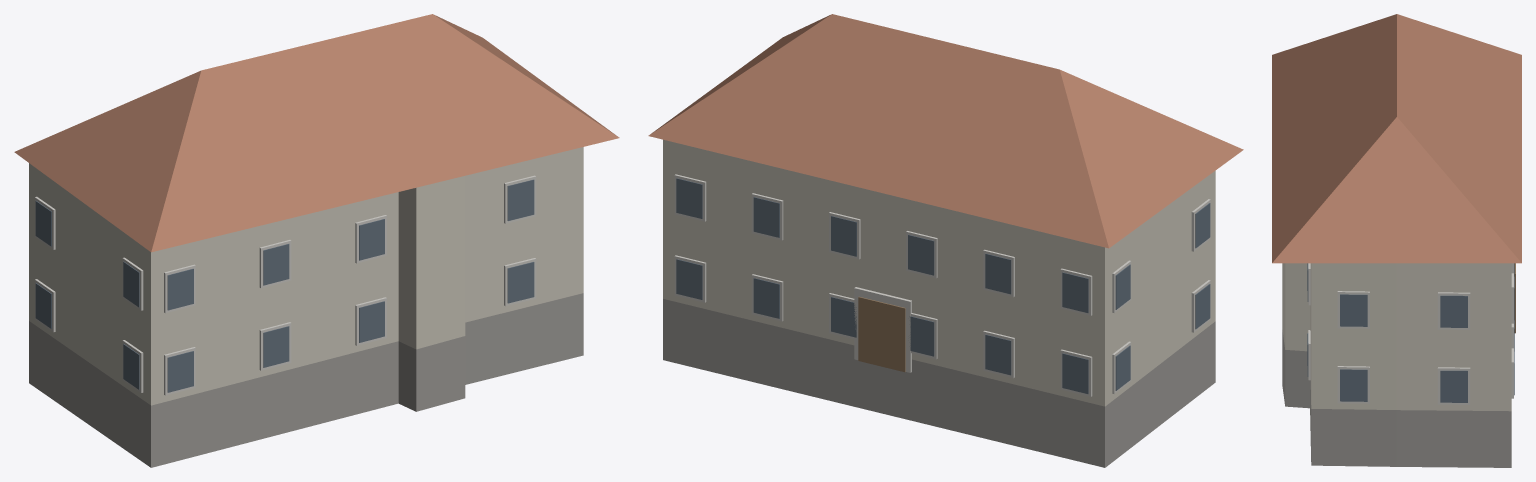
The model's file is landmark-civic-554351961.glb.
The picture shows the model from 3 angles, left to right: view 1: azimuth 30°, elevation 25°; view 2: azimuth 150°, elevation 25°; view 3: azimuth 270°, elevation 25°; orthographic projection. The views are drawn at different scales.
Visible parts, largest first — view 1: building; view 2: building; view 3: building.
Part boxes in pixels (left/top/right/bottom): building: left=14, top=14, right=619, bottom=467; building: left=648, top=14, right=1243, bottom=467; building: left=1272, top=14, right=1521, bottom=467.
Size of the model in its own units: 19.66 by 13.32 by 9.96.
